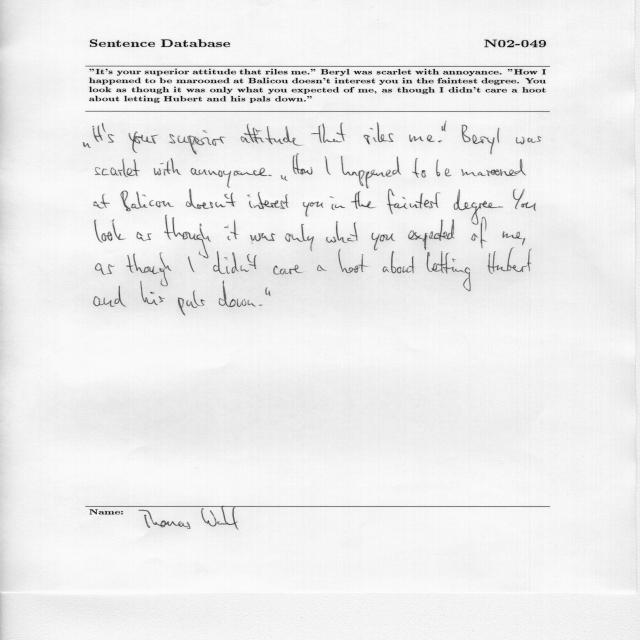word: (164, 215, 211, 259), (341, 156, 401, 189), (241, 124, 302, 155), (454, 189, 503, 225), (427, 251, 471, 291), (191, 168, 272, 188), (126, 253, 172, 286), (408, 219, 455, 250), (169, 130, 226, 155), (186, 189, 253, 209), (387, 189, 440, 214), (487, 248, 532, 274), (462, 125, 500, 155), (461, 159, 526, 176), (121, 191, 174, 211), (213, 251, 257, 274), (219, 281, 256, 307), (95, 159, 140, 177), (285, 224, 314, 251), (95, 219, 126, 243), (382, 251, 415, 273), (338, 249, 368, 273), (326, 221, 358, 243), (311, 123, 346, 143), (178, 291, 205, 316), (94, 286, 126, 307), (129, 131, 159, 153), (364, 123, 394, 145), (140, 281, 165, 305), (254, 192, 289, 209), (471, 217, 487, 249), (154, 158, 181, 176), (351, 191, 376, 209), (293, 155, 313, 175), (372, 233, 395, 250), (303, 202, 323, 217), (273, 265, 303, 275), (225, 220, 239, 241), (412, 158, 426, 178), (250, 233, 275, 244), (436, 160, 452, 177), (102, 123, 115, 143), (513, 189, 525, 209), (96, 263, 115, 275), (94, 194, 110, 208), (516, 136, 542, 144), (330, 197, 345, 210), (409, 135, 435, 142), (93, 125, 103, 142), (502, 231, 523, 239), (521, 202, 536, 211), (137, 232, 152, 241), (325, 156, 331, 175), (188, 257, 195, 272), (317, 265, 327, 271), (442, 121, 447, 132), (83, 142, 91, 148), (281, 175, 288, 181), (265, 288, 270, 296), (522, 238, 526, 246), (438, 141, 442, 143), (259, 305, 263, 306)
